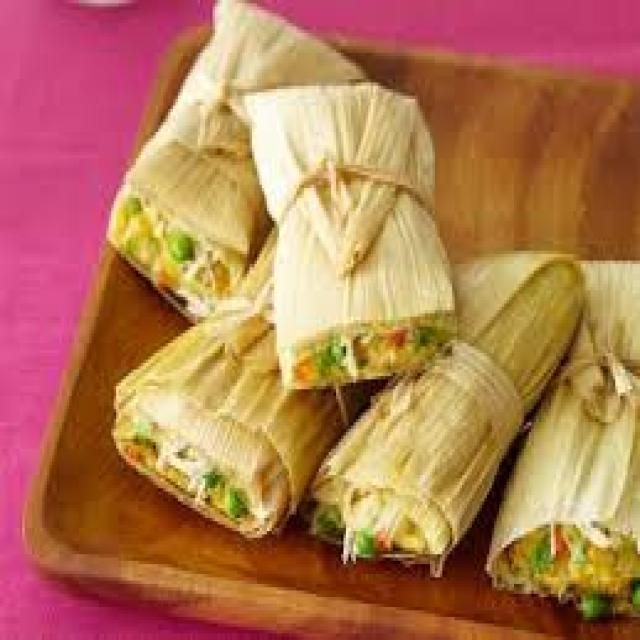Organik: (124, 0, 354, 326), (265, 80, 466, 389), (368, 233, 550, 562), (488, 235, 638, 602), (118, 312, 323, 545)
